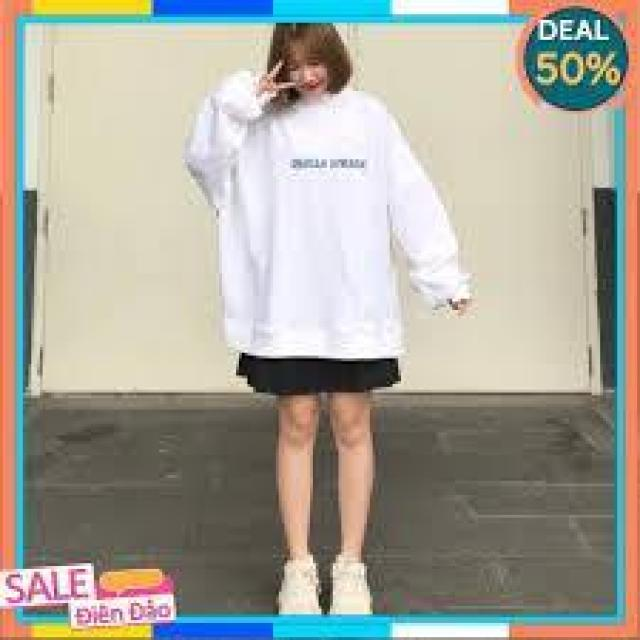sweater: (186, 66, 474, 356)
